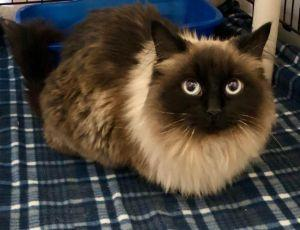siamese: (141, 12, 278, 151)
